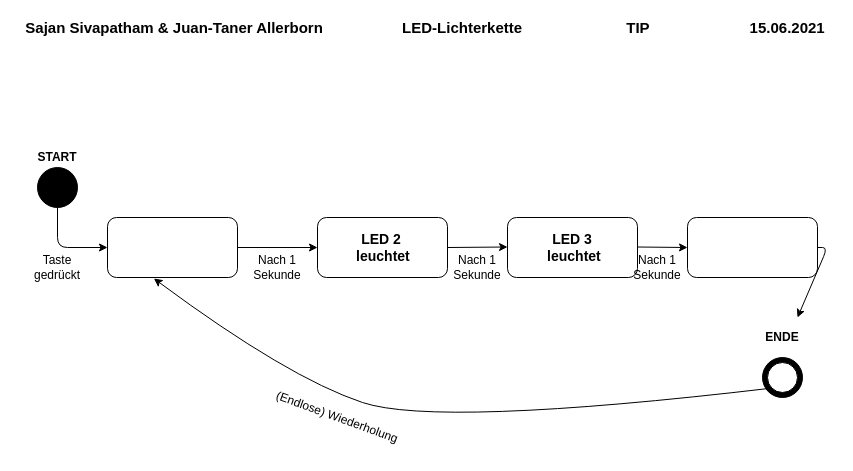
Image size: 853x471. Some labels were removed from this diagram. Each missing label, with the centre of its shape:
LED 1 leuchtet: (172,247)
LED 4 leuchtet: (752,247)
